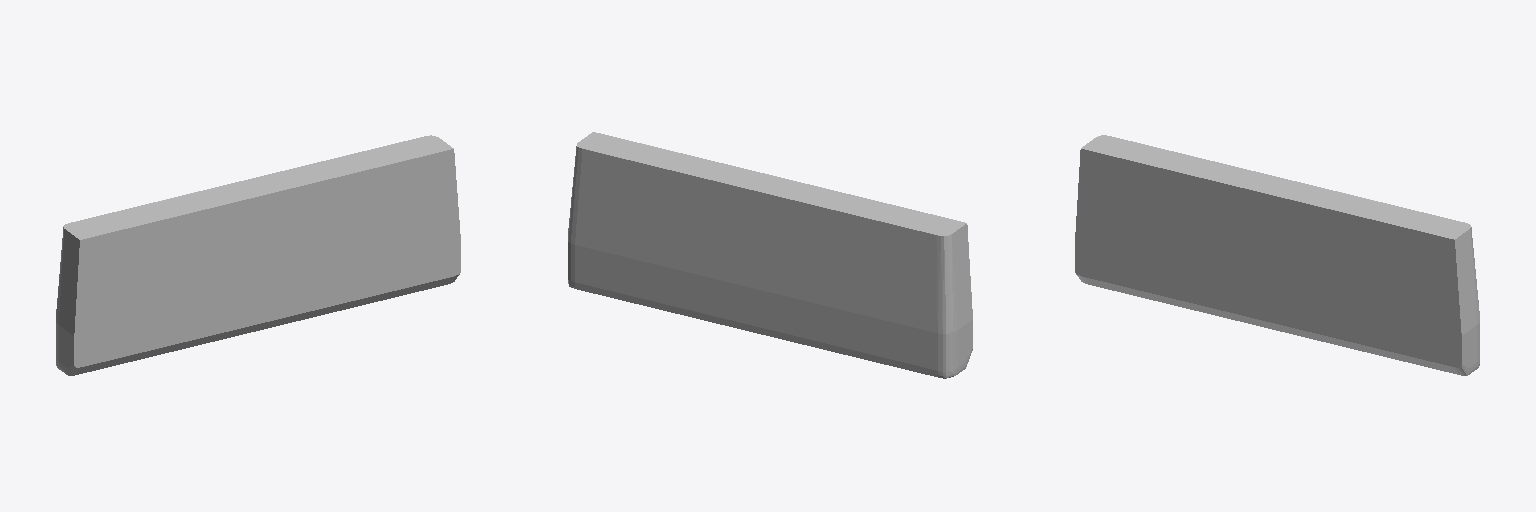
Rendered from Toaster_24_collision_9.obj.
3 renders of one model, left to right at view 1: azimuth 30°, elevation 25°; view 2: azimuth 150°, elevation 25°; view 3: azimuth 330°, elevation 25°, orthographic.
Size of the model in its own units: 0.3106 by 0.1078 by 0.0325.